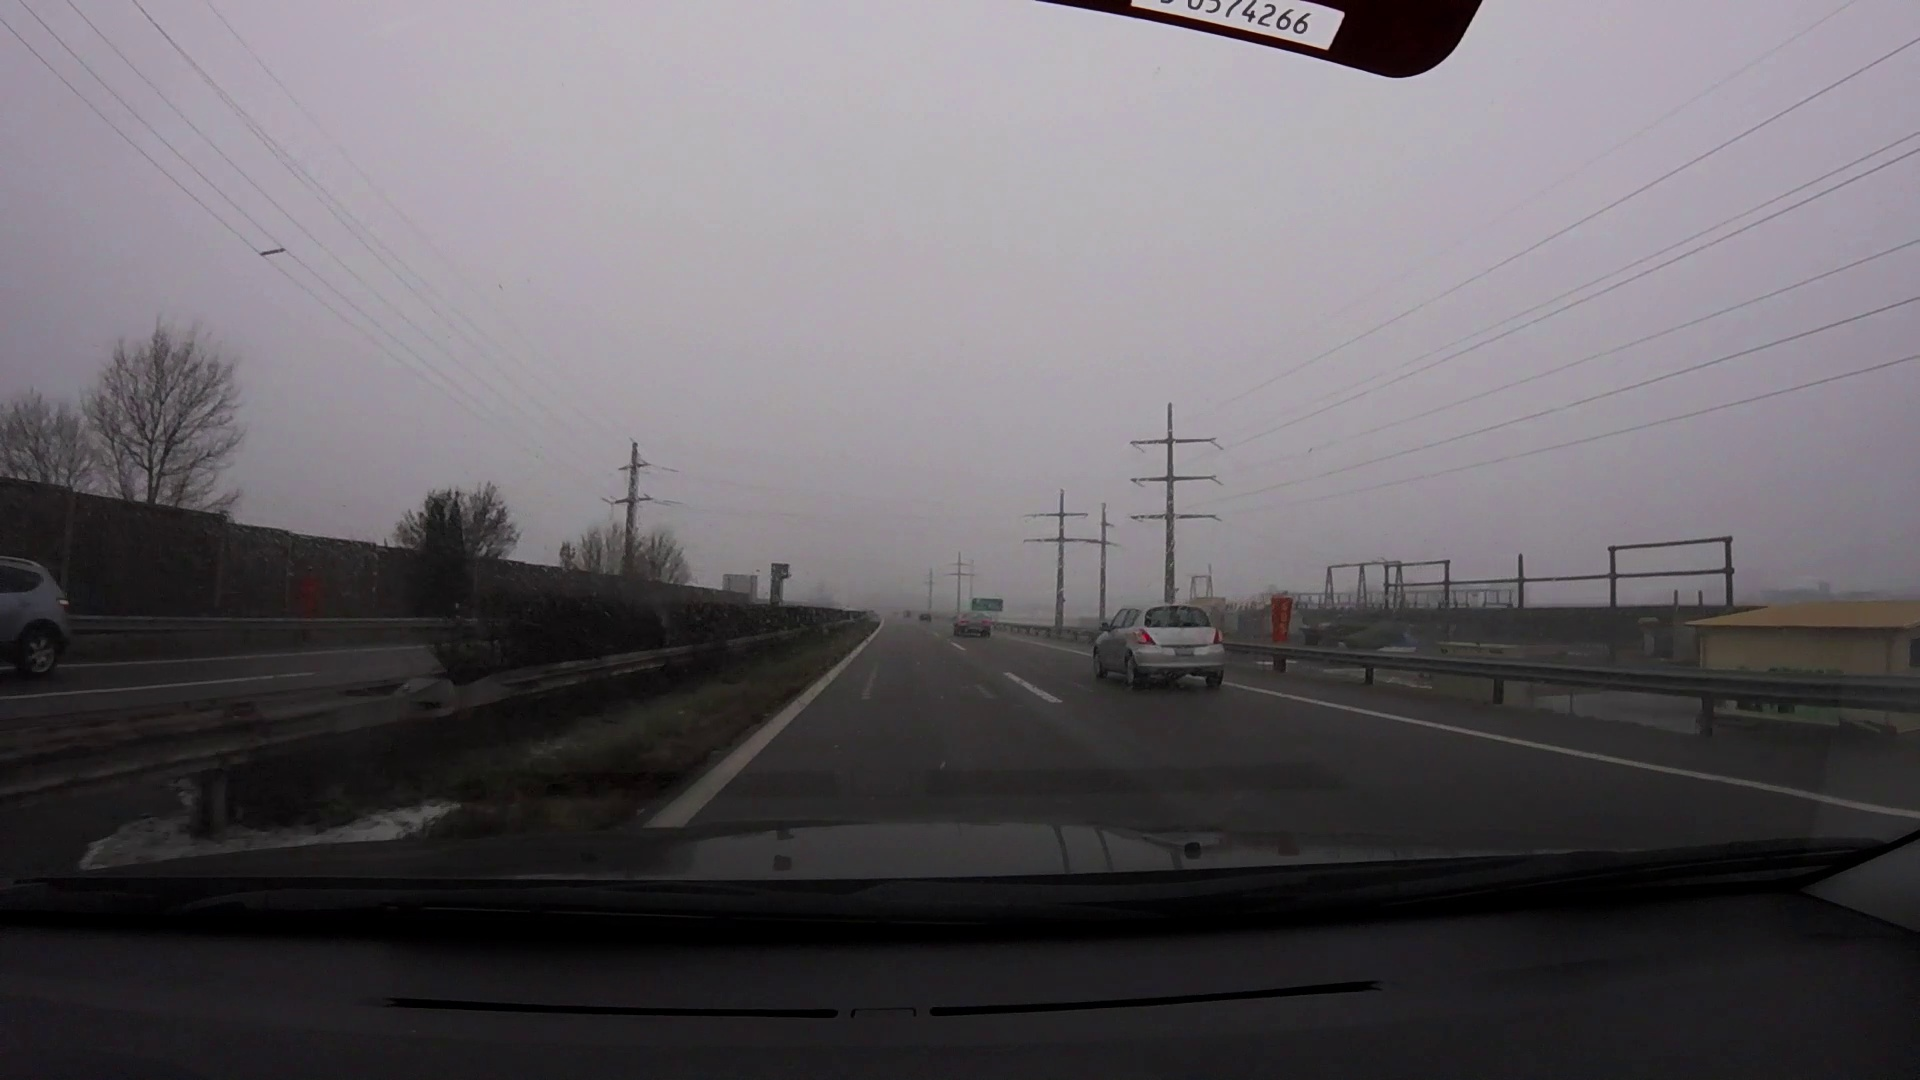radar: (767, 562, 794, 607)
